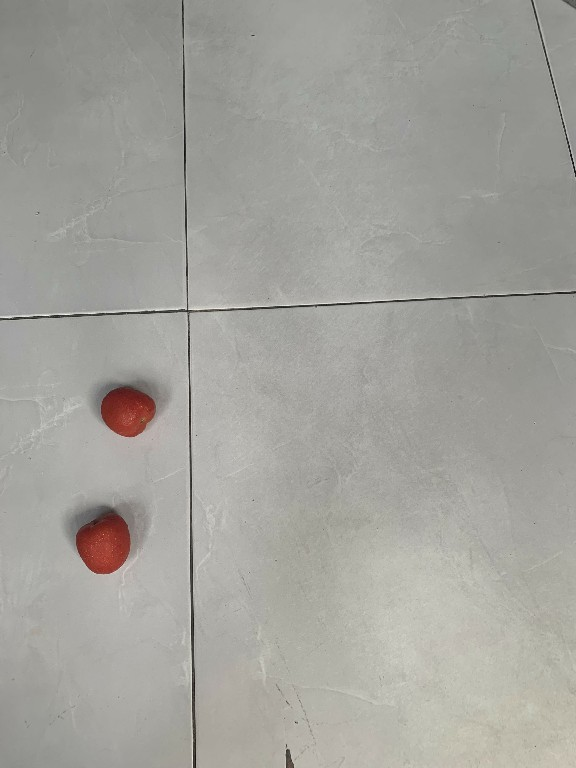NG: (72, 506, 136, 582), (93, 382, 161, 440)
